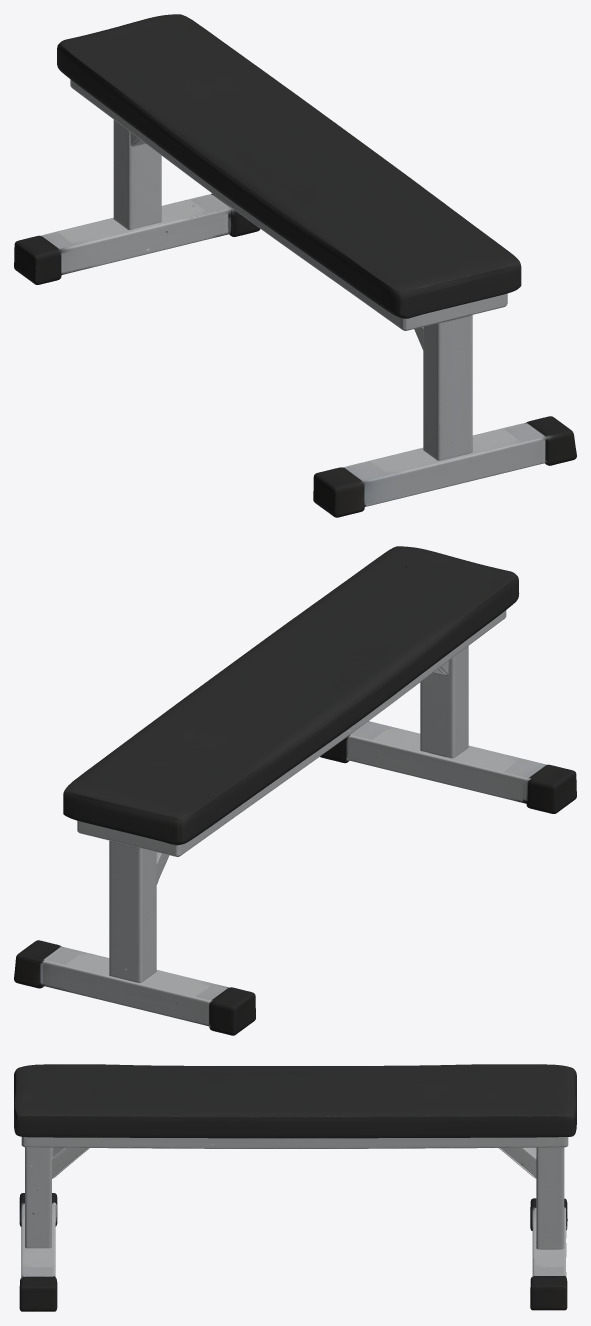
Rendered from weight_bench__hunyuan.glb.
The picture shows the model from 3 angles, top to bottom: view 1: azimuth 30°, elevation 25°; view 2: azimuth 150°, elevation 25°; view 3: azimuth 270°, elevation 25°; orthographic projection. The views are drawn at different scales.
Parts seen in each view (by area): view 1: material; view 2: material; view 3: material.
Part boxes in pixels (x1,y1,x2,y2): material: (14, 14, 576, 517); material: (14, 546, 576, 1035); material: (14, 1064, 576, 1311).
Size of the model in its own units: 0.4402 by 0.3724 by 1.08.
1 material, 1 textured.
